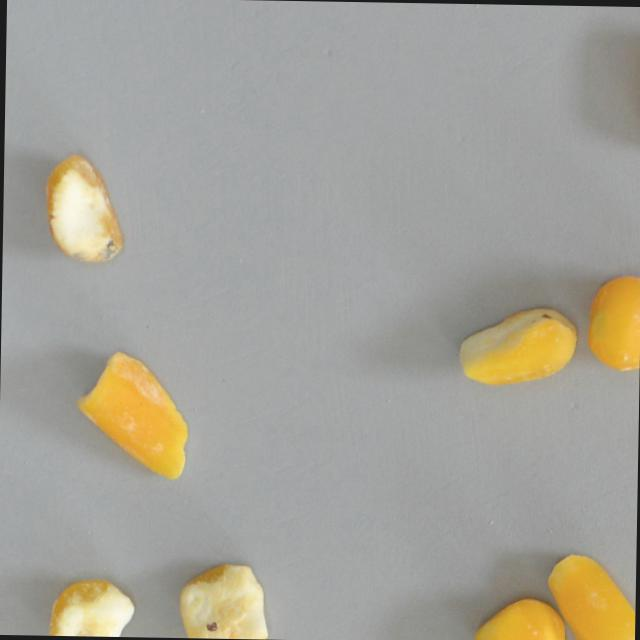dañado: (41, 152, 123, 264), (176, 562, 269, 639), (47, 578, 134, 637)
estandar: (545, 550, 636, 640)
no_canjicado: (585, 273, 640, 371), (472, 596, 566, 640)
pelicula: (73, 348, 189, 480)
punto_negro: (456, 304, 576, 386)
